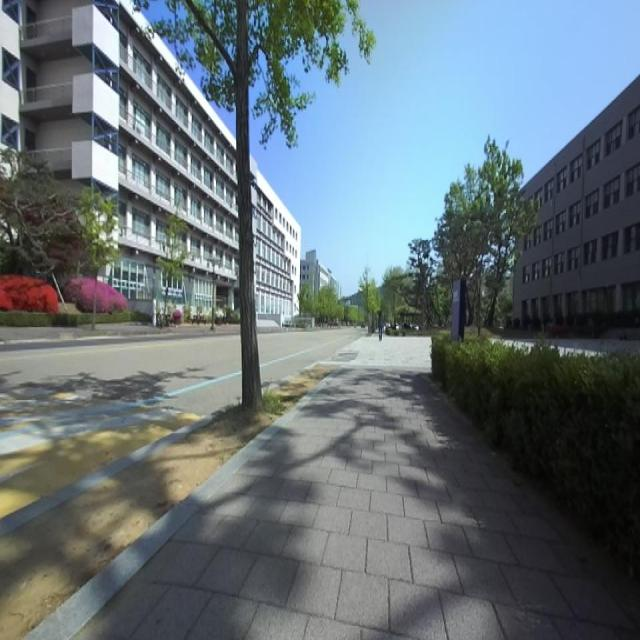sidewalk: (78, 364, 640, 639), (334, 336, 432, 371)
